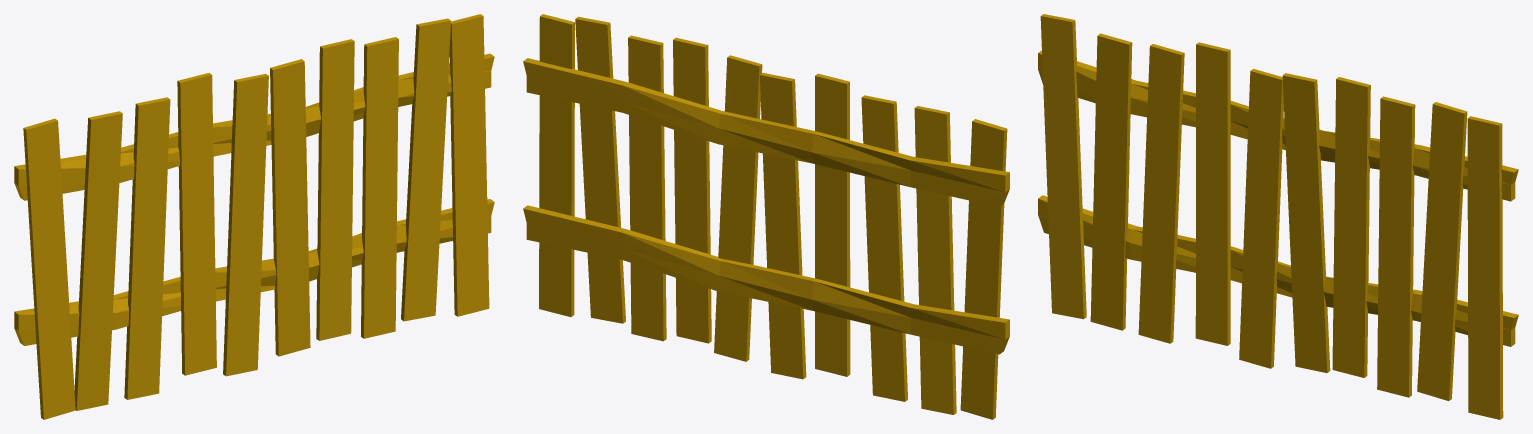
Rendered from fence.fbx.
3 views of the same model, side by side, from view 1: azimuth 30°, elevation 25°; view 2: azimuth 150°, elevation 25°; view 3: azimuth 330°, elevation 25° (orthographic).
Parts seen in each view (by area): view 1: Fence.001, Fence.004, Fence.005, Fence.010, Fence.009, Fence.003, Fence.007, Fence.008, Fence.002, Fence.006, Fence.011, Fence.012; view 2: Fence.011, Fence.012, Fence.002, Fence.003, Fence.009, Fence.008, Fence.006, Fence.005, Fence.007, Fence.010, Fence.004, Fence.001; view 3: Fence.001, Fence.010, Fence.003, Fence.004, Fence.007, Fence.008, Fence.009, Fence.005, Fence.006, Fence.002, Fence.011, Fence.012.
Boxes of the visible parts, x1,y1,x2,y2 form: Fence.001: [23, 118, 75, 419]; Fence.004: [177, 73, 216, 375]; Fence.005: [223, 73, 268, 376]; Fence.010: [449, 14, 489, 316]; Fence.009: [401, 18, 450, 321]; Fence.003: [124, 97, 170, 399]; Fence.007: [316, 39, 354, 340]; Fence.008: [361, 37, 398, 338]; Fence.002: [74, 111, 122, 410]; Fence.006: [270, 59, 310, 356]; Fence.011: [14, 199, 494, 345]; Fence.012: [14, 53, 494, 200]; Fence.011: [523, 205, 1009, 354]; Fence.012: [523, 58, 1009, 207]; Fence.002: [914, 106, 956, 414]; Fence.003: [861, 95, 907, 401]; Fence.009: [575, 16, 625, 323]; Fence.008: [628, 35, 666, 341]; Fence.006: [714, 55, 762, 361]; Fence.005: [759, 73, 806, 379]; Fence.007: [673, 37, 711, 343]; Fence.010: [539, 14, 574, 316]; Fence.004: [815, 73, 850, 376]; Fence.001: [960, 119, 1007, 419]; Fence.001: [1040, 14, 1086, 319]; Fence.010: [1467, 116, 1503, 419]; Fence.003: [1138, 44, 1184, 343]; Fence.004: [1195, 42, 1230, 345]; Fence.007: [1332, 77, 1370, 377]; Fence.008: [1377, 96, 1415, 397]; Fence.009: [1417, 102, 1467, 400]; Fence.005: [1239, 69, 1283, 368]; Fence.006: [1282, 73, 1330, 372]; Fence.002: [1090, 33, 1132, 330]; Fence.011: [1038, 195, 1518, 346]; Fence.012: [1038, 50, 1518, 201].
Size of the model in its own units: 300 by 14.38 by 184.
